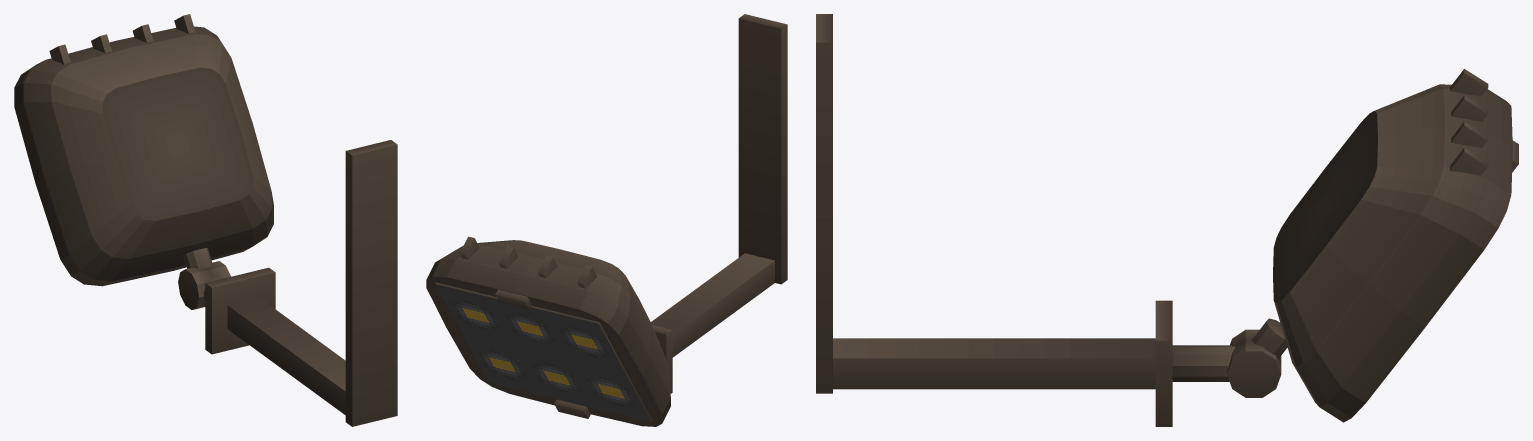
File: floodlight_lithtflkn_x.obj
3 renders of one model, left to right at view 1: azimuth 30°, elevation 25°; view 2: azimuth 150°, elevation 25°; view 3: azimuth 270°, elevation 25°, orthographic. The views are drawn at different scales.
Parts seen in each view (by area): view 1: fixture; view 2: fixture; view 3: fixture.
Part boxes in pixels (x1,y1,x2,y2): fixture: [14, 14, 397, 426]; fixture: [426, 14, 787, 426]; fixture: [816, 14, 1518, 426].
Bounding box in the file's own units: 0.5714 × 0.7687 × 1.29.
